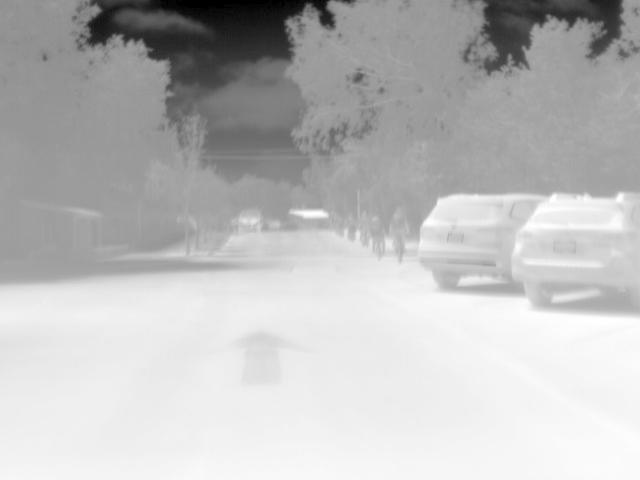car: (507, 190, 637, 308), (415, 190, 549, 290), (235, 206, 266, 236)
person: (387, 206, 408, 256), (356, 209, 371, 245), (372, 214, 386, 250), (345, 210, 357, 238)
